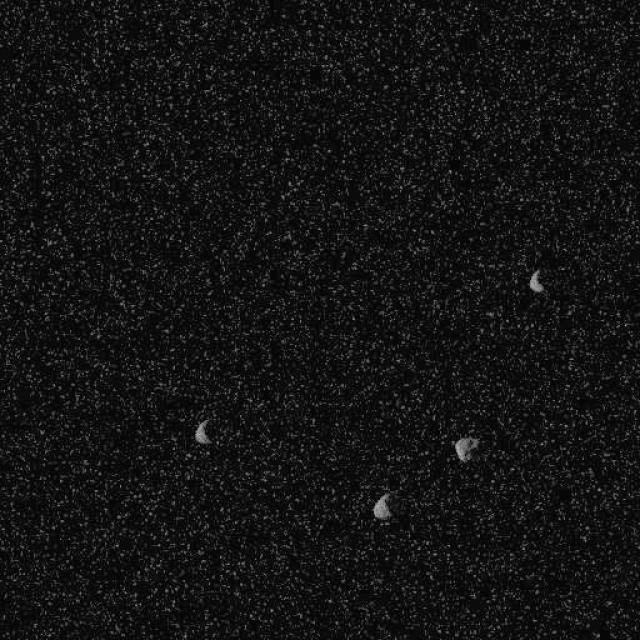D2: (454, 435, 480, 464), (372, 491, 392, 520), (194, 419, 211, 445), (528, 268, 544, 294)
